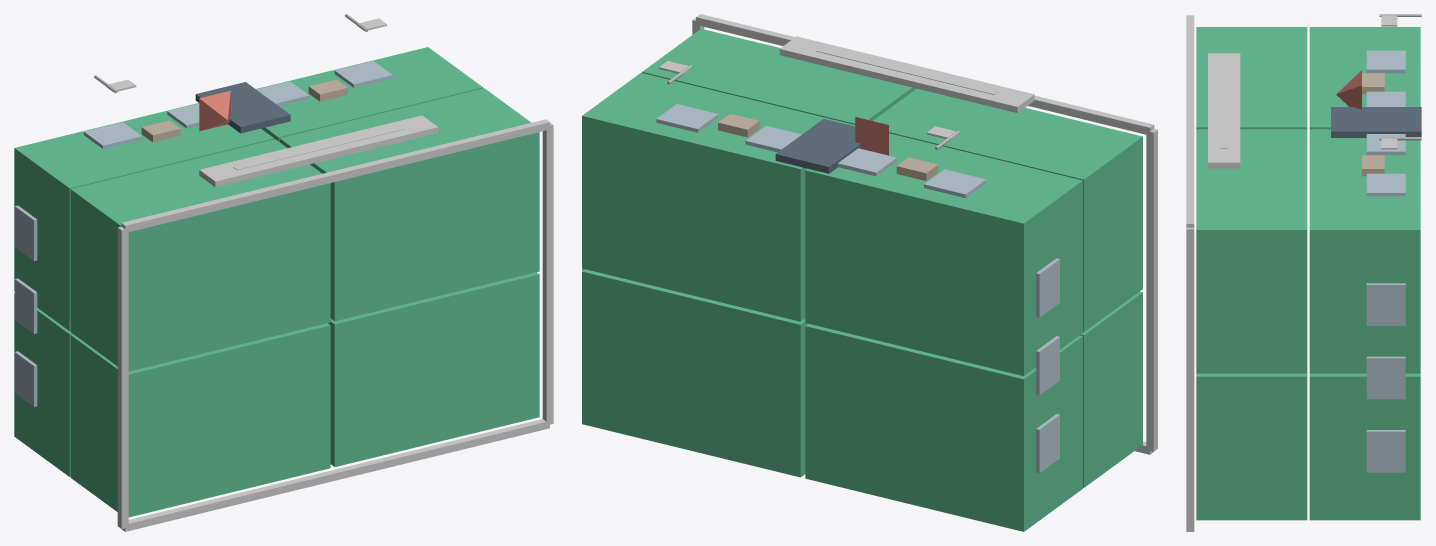
Rendered from building-real-estate.glb.
3 views of the same model, side by side, from view 1: azimuth 30°, elevation 25°; view 2: azimuth 150°, elevation 25°; view 3: azimuth 270°, elevation 25° (orthographic). The views are drawn at different scales.
Visible parts, largest first — view 1: world; view 2: world; view 3: world.
Boxes of the visible parts, x1,y1,x2,y2 form: world: (14,14,553,531); world: (582,14,1157,531); world: (1186,14,1421,531).
Bounding box in the file's own units: 15.5 × 12 × 7.28.
